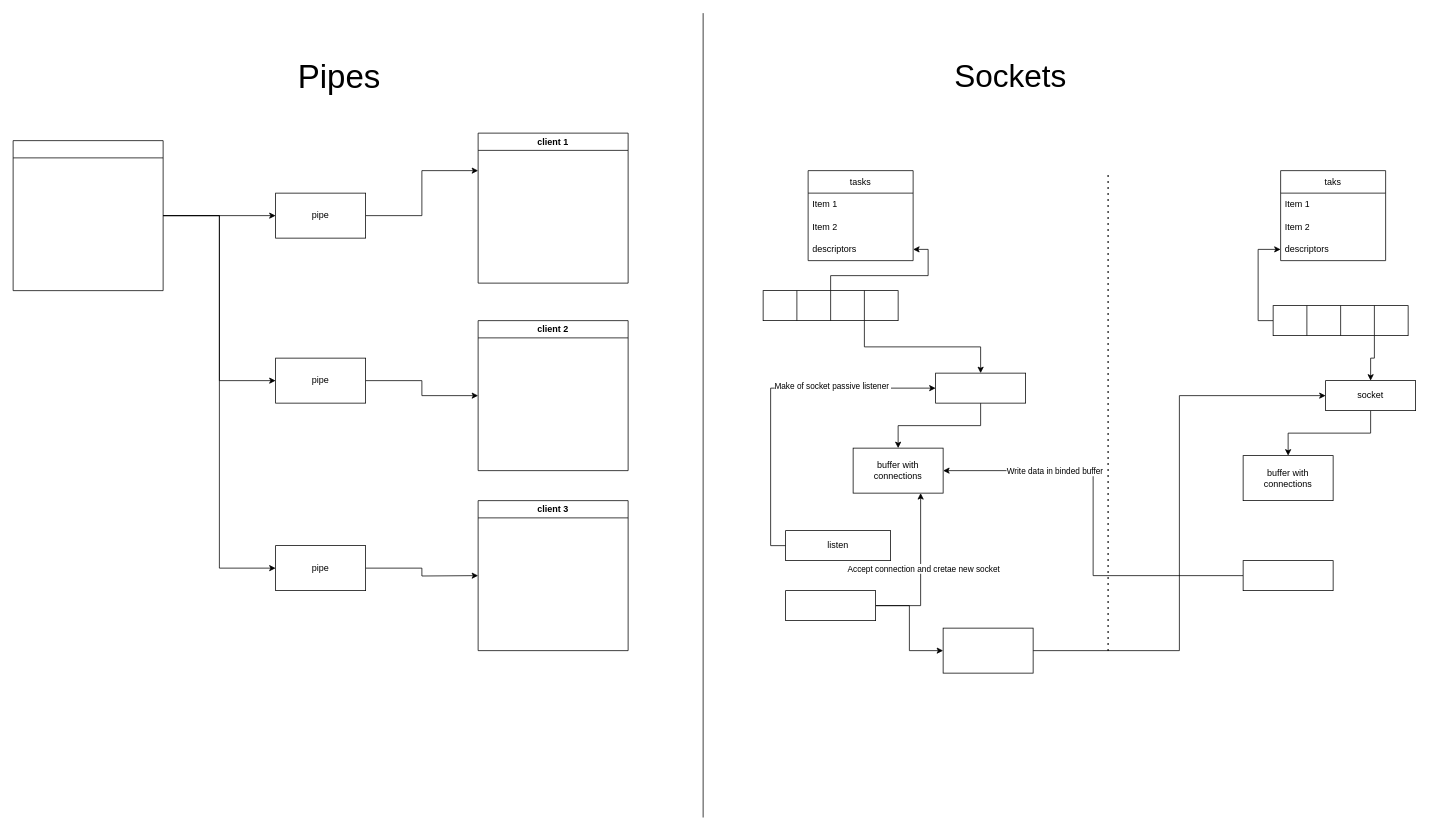
Image size: 1429x832. Some labels were removed from this diagram. The centre of each missing label's shape, as x and y in pixels:
"accept" goes at point 830,605.
"connect" goes at point 1287,575.
"server" goes at point 87,215.
"socket (only listen new connections)" goes at point 980,387.
"socket (work with procces)" goes at point 987,650.
